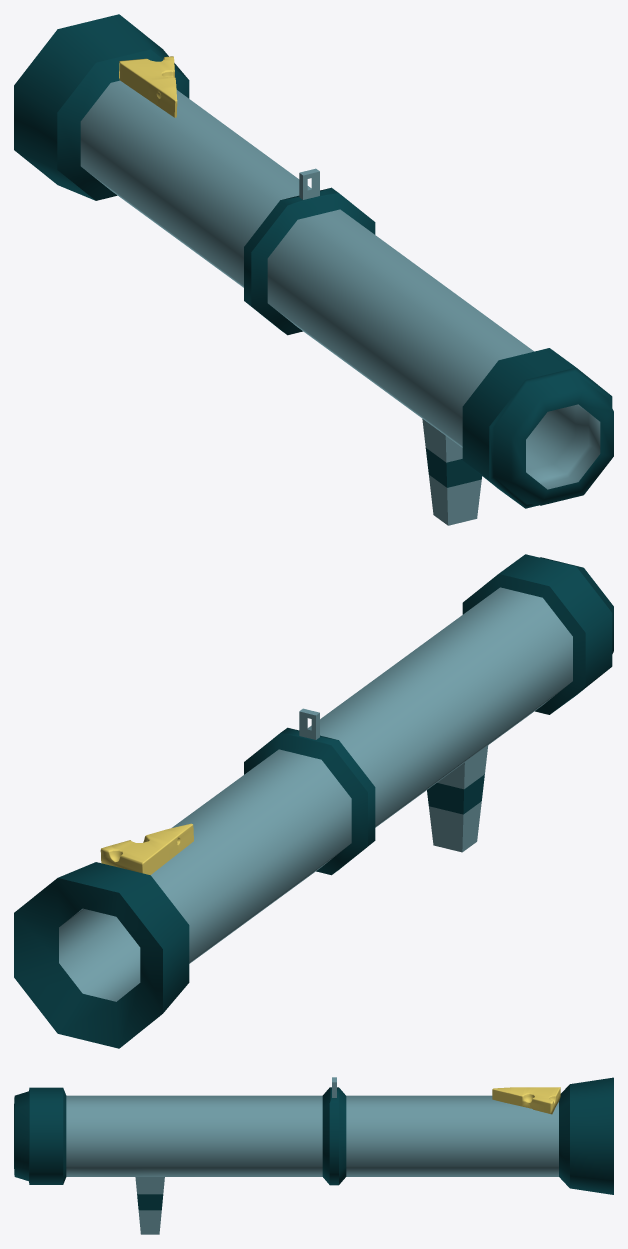
The model's file is HimegotoHentai.fbx.
3 views of the same model, one above another, from view 1: azimuth 30°, elevation 25°; view 2: azimuth 150°, elevation 25°; view 3: azimuth 270°, elevation 25° (orthographic). The views are drawn at different scales.
Visible parts, largest first — view 1: CheeseLauncher; view 2: CheeseLauncher; view 3: CheeseLauncher.
Part boxes in pixels (x1,y1,x2,y2): CheeseLauncher: (14, 14, 613, 525); CheeseLauncher: (14, 554, 613, 1048); CheeseLauncher: (14, 1077, 613, 1234).
Bounding box in the file's own units: 3.38 × 5.17 × 18.66.
